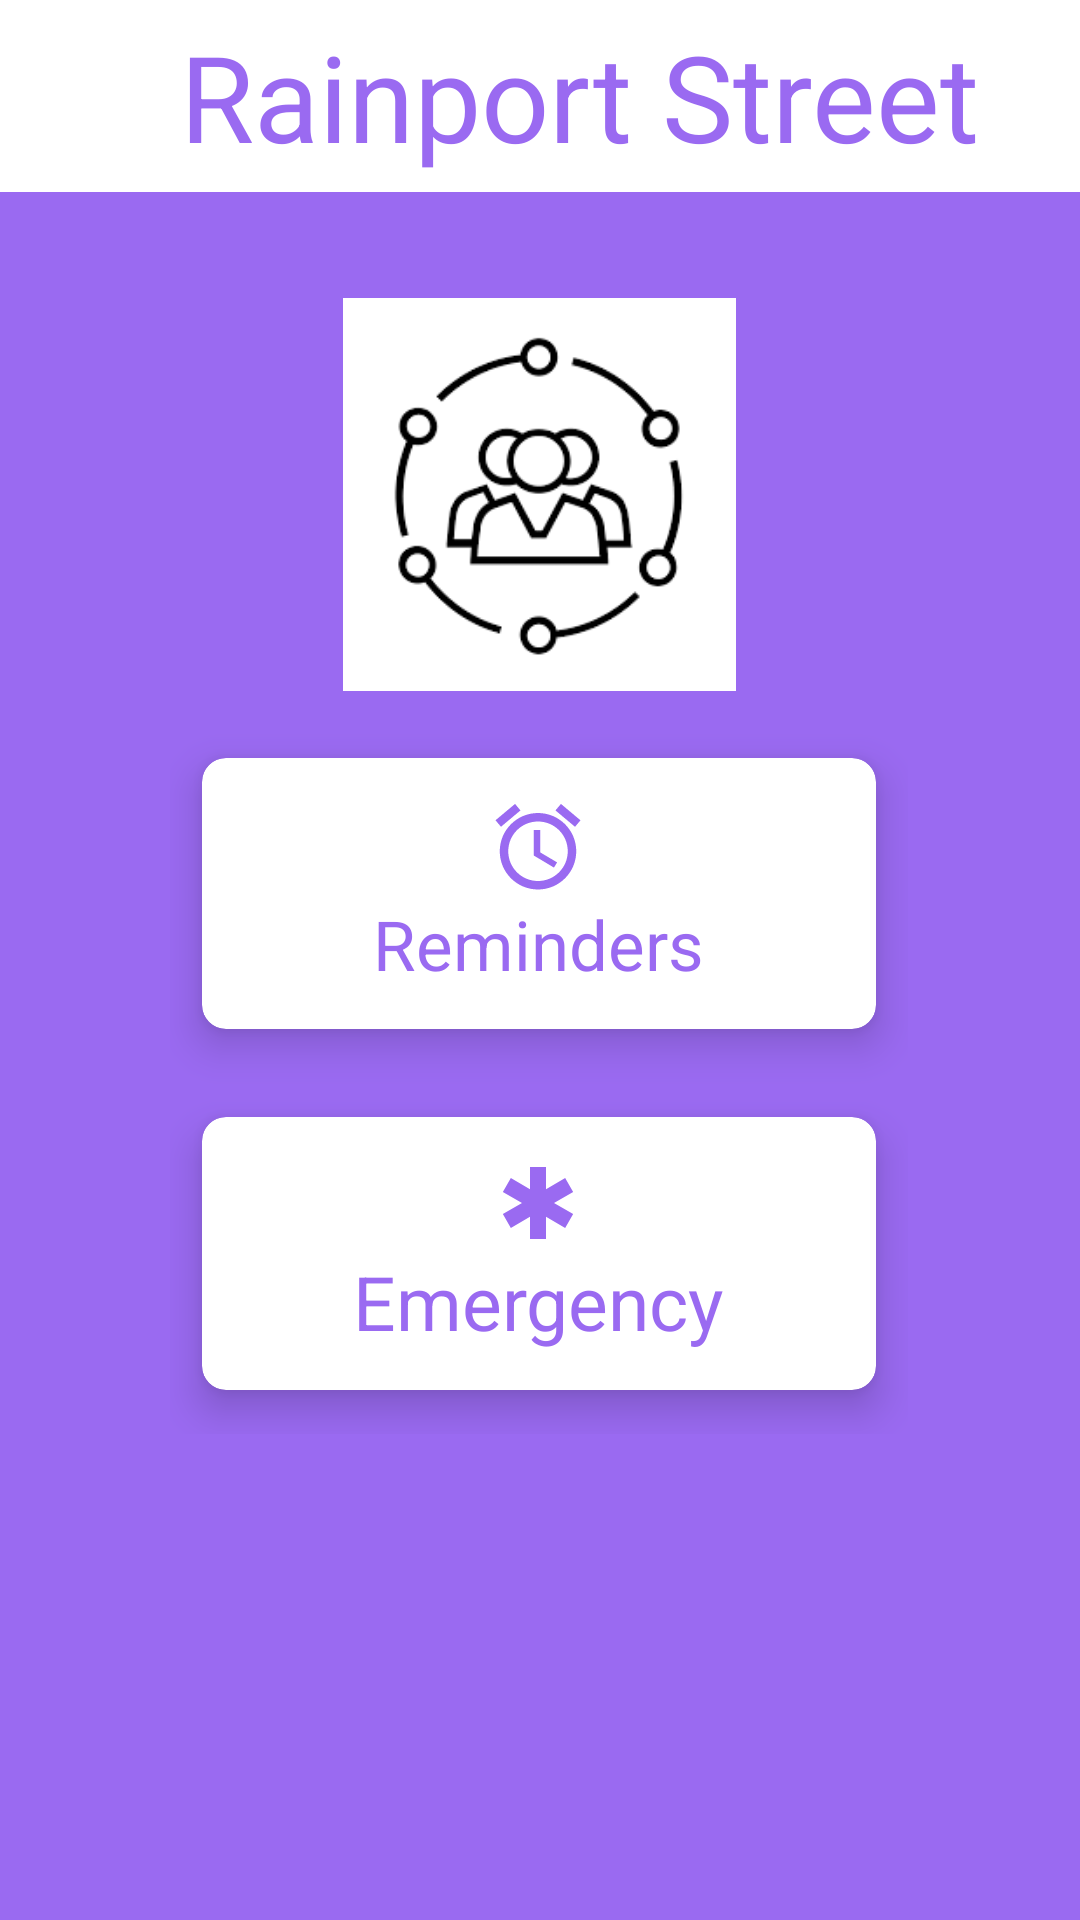

Named icons in this screenshot (1080 x 1920) and their bounding boxes, {"left": x1, "top": y1, "right": x2, "bottom": y2}:
alarm: {"left": 495, "top": 804, "right": 581, "bottom": 890}
